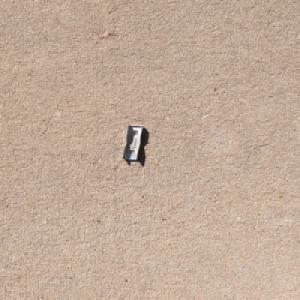ClampPart: (120, 124, 145, 161)
